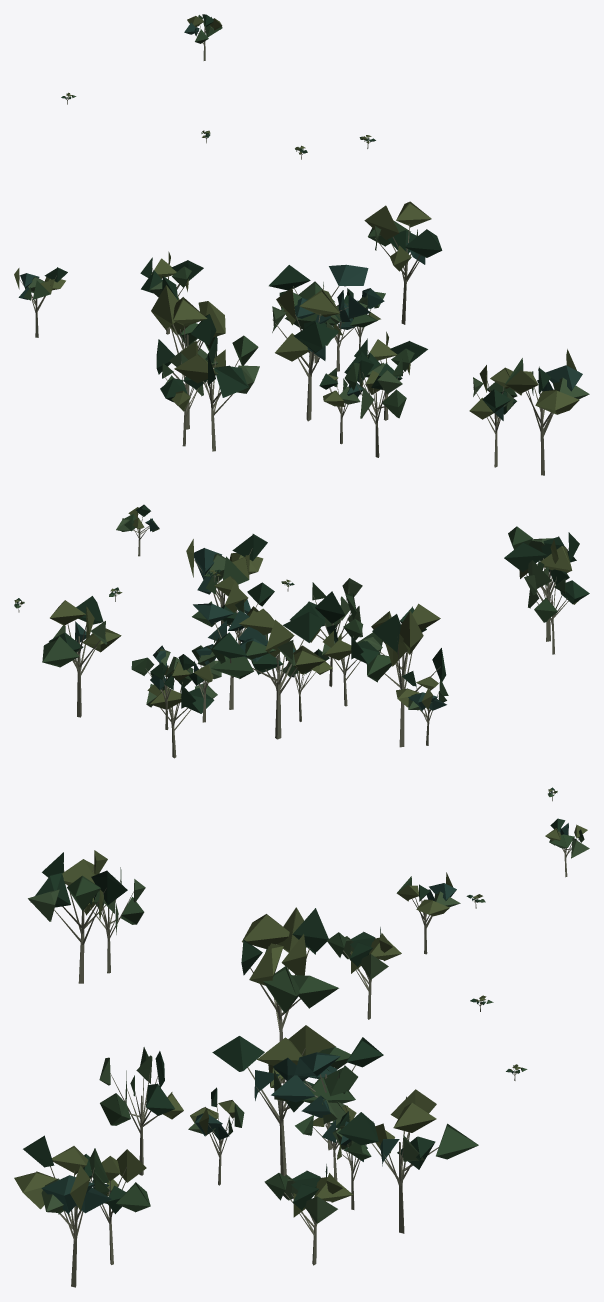
Rendered from forest_23_25.dae.
3 renders of one model, top to bottom at view 1: azimuth 30°, elevation 25°; view 2: azimuth 150°, elevation 25°; view 3: azimuth 270°, elevation 25°, orthographic. The views are drawn at different scales.
Parts seen in each view (by area): view 1: Node; view 2: Node; view 3: Node.
Part boxes in pixels (bbox=[...]): Node: bbox=[14, 14, 589, 475]; Node: bbox=[14, 504, 589, 758]; Node: bbox=[14, 787, 589, 1287].
Size of the model in its own units: 10.71 by 11.22 by 8.67.
